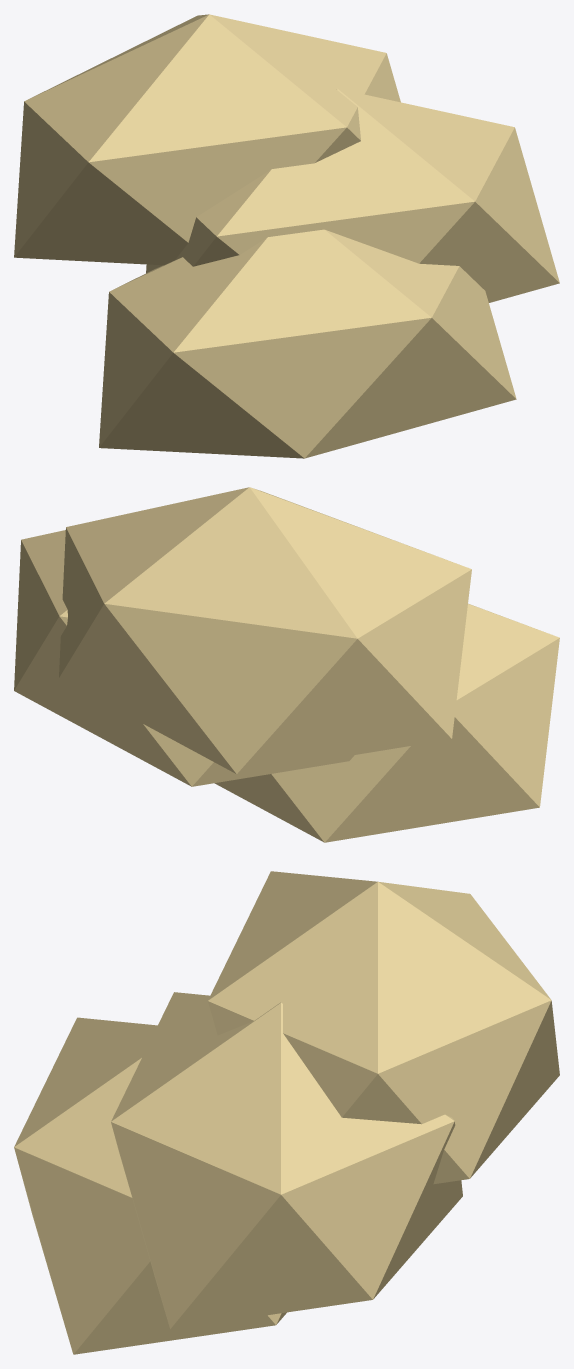
The model's file is item_061_rye_m.glb.
3 views of the same model, one above another, from view 1: azimuth 30°, elevation 25°; view 2: azimuth 150°, elevation 25°; view 3: azimuth 270°, elevation 25° (orthographic). The views are drawn at different scales.
Parts seen in each view (by area): view 1: item_061_rye_m; view 2: item_061_rye_m; view 3: item_061_rye_m.
Part boxes in pixels (box(x1,y1,x2,y2)): item_061_rye_m: box(14, 14, 559, 458); item_061_rye_m: box(14, 487, 559, 842); item_061_rye_m: box(14, 871, 559, 1354).
Size of the model in its own units: 0.3742 by 0.296 by 0.3382.
